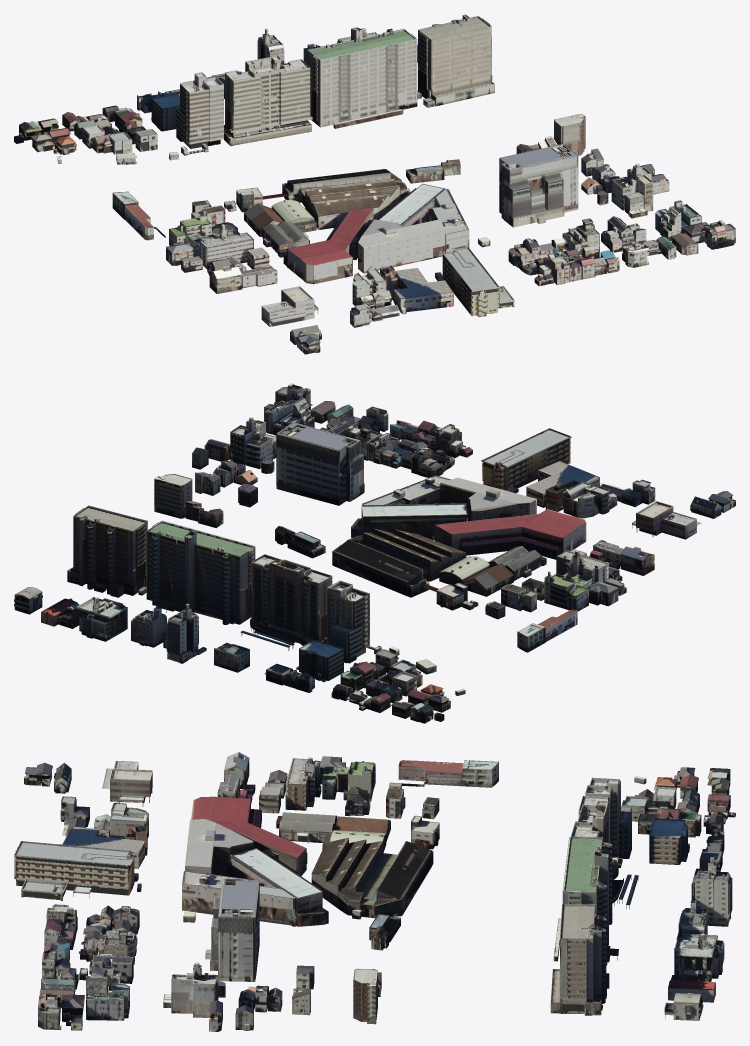
File: station-7-0-packed.glb
3 renders of one model, top to bottom at view 1: azimuth 30°, elevation 25°; view 2: azimuth 150°, elevation 25°; view 3: azimuth 270°, elevation 25°, orthographic. The views are drawn at different scales.
Bounding box in the file's own units: 300 × 51.06 × 351.
16 materials, 15 textured.
